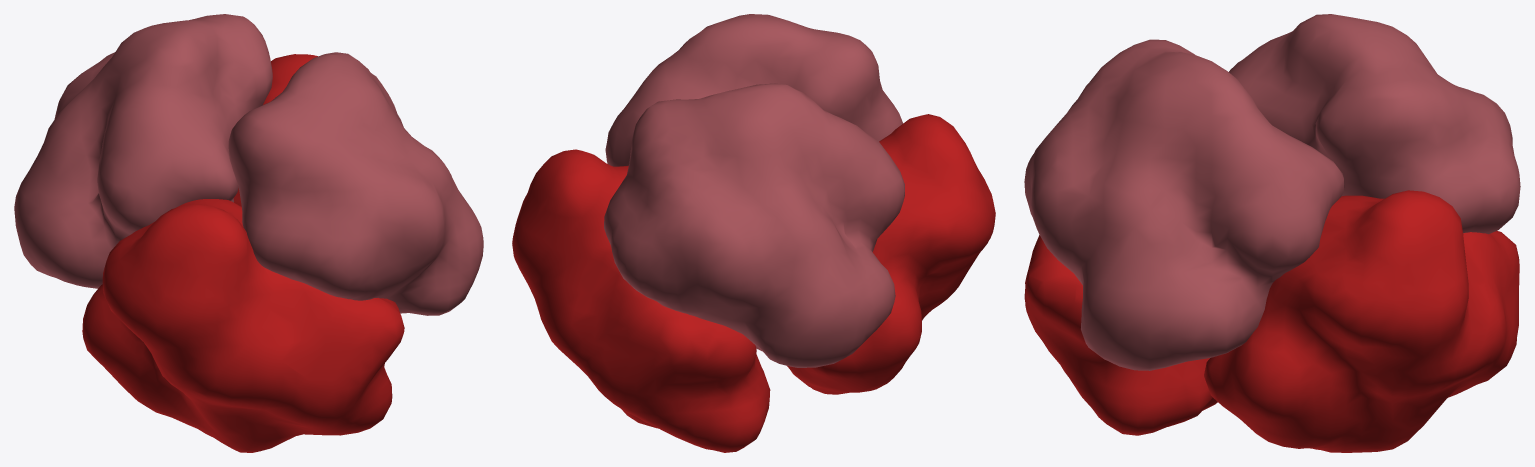
The model's file is Hemoglobin.fbx.
3 renders of one model, left to right at view 1: azimuth 30°, elevation 25°; view 2: azimuth 150°, elevation 25°; view 3: azimuth 270°, elevation 25°, orthographic. The views are drawn at different scales.
Parts seen in each view (by area): view 1: CoarseMS_2hhb_Selection9.2, CoarseMS_2hhb_Selection8.2, CoarseMS_2hhb_Selection6.2, CoarseMS_2hhb_Selection7.2; view 2: CoarseMS_2hhb_Selection6.2, CoarseMS_2hhb_Selection7.2, CoarseMS_2hhb_Selection9.2, CoarseMS_2hhb_Selection8.2; view 3: CoarseMS_2hhb_Selection8.2, CoarseMS_2hhb_Selection7.2, CoarseMS_2hhb_Selection6.2, CoarseMS_2hhb_Selection9.2.
Part boxes in pixels (x1=…): CoarseMS_2hhb_Selection9.2: x1=82, y1=199, x2=404, y2=452; CoarseMS_2hhb_Selection8.2: x1=228, y1=52, x2=483, y2=315; CoarseMS_2hhb_Selection6.2: x1=14, y1=14, x2=272, y2=288; CoarseMS_2hhb_Selection7.2: x1=233, y1=54, x2=317, y2=206; CoarseMS_2hhb_Selection6.2: x1=604, y1=83, x2=904, y2=367; CoarseMS_2hhb_Selection7.2: x1=512, y1=149, x2=770, y2=452; CoarseMS_2hhb_Selection9.2: x1=787, y1=114, x2=995, y2=394; CoarseMS_2hhb_Selection8.2: x1=605, y1=14, x2=902, y2=166; CoarseMS_2hhb_Selection8.2: x1=1024, y1=39, x2=1344, y2=370; CoarseMS_2hhb_Selection7.2: x1=1204, y1=190, x2=1519, y2=452; CoarseMS_2hhb_Selection6.2: x1=1229, y1=14, x2=1520, y2=234; CoarseMS_2hhb_Selection9.2: x1=1024, y1=235, x2=1217, y2=435.
Size of the model in its own units: 60.38 by 55.65 by 65.15.
